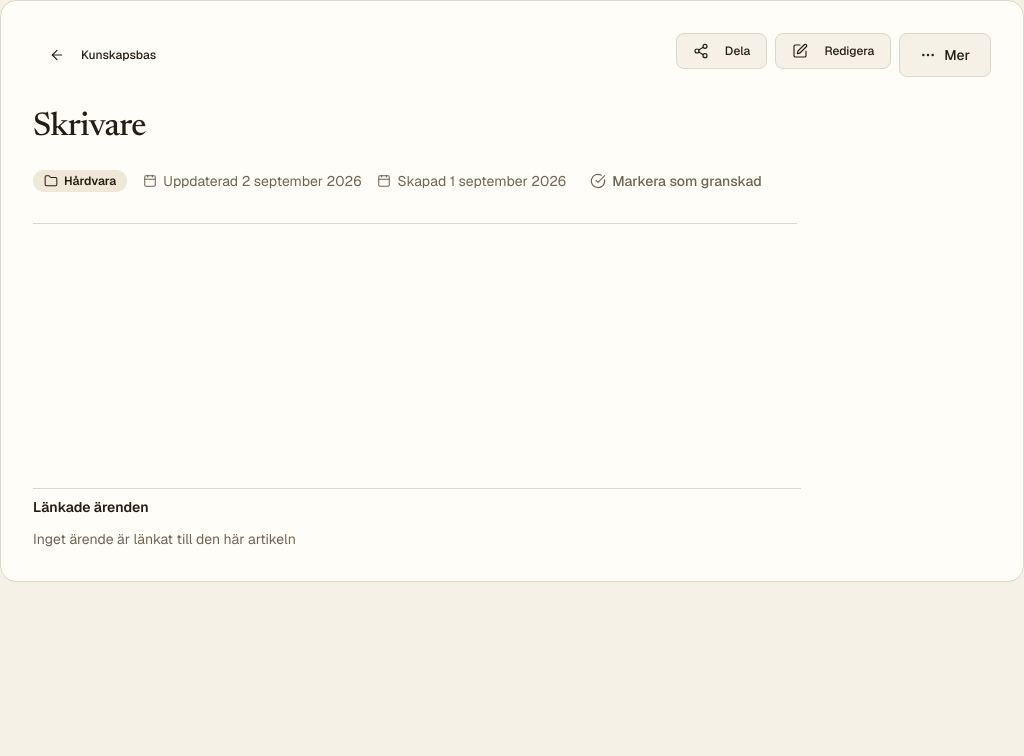
Test: KBArticleDetail › uppdaterar delningsstatus i query-cachen när artikeln delas
Click the button "Dela": (722, 51) x1=676 y1=33 x2=767 y2=69
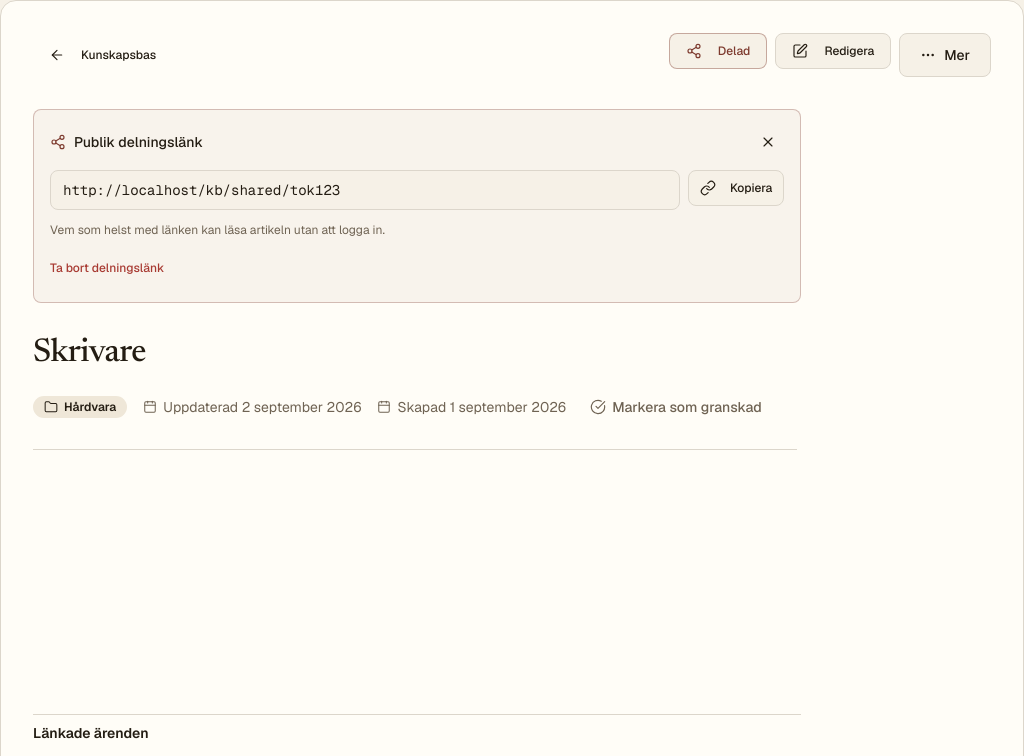
Expected: the button "Delad" is shown, x1=669 y1=33 x2=767 y2=69
